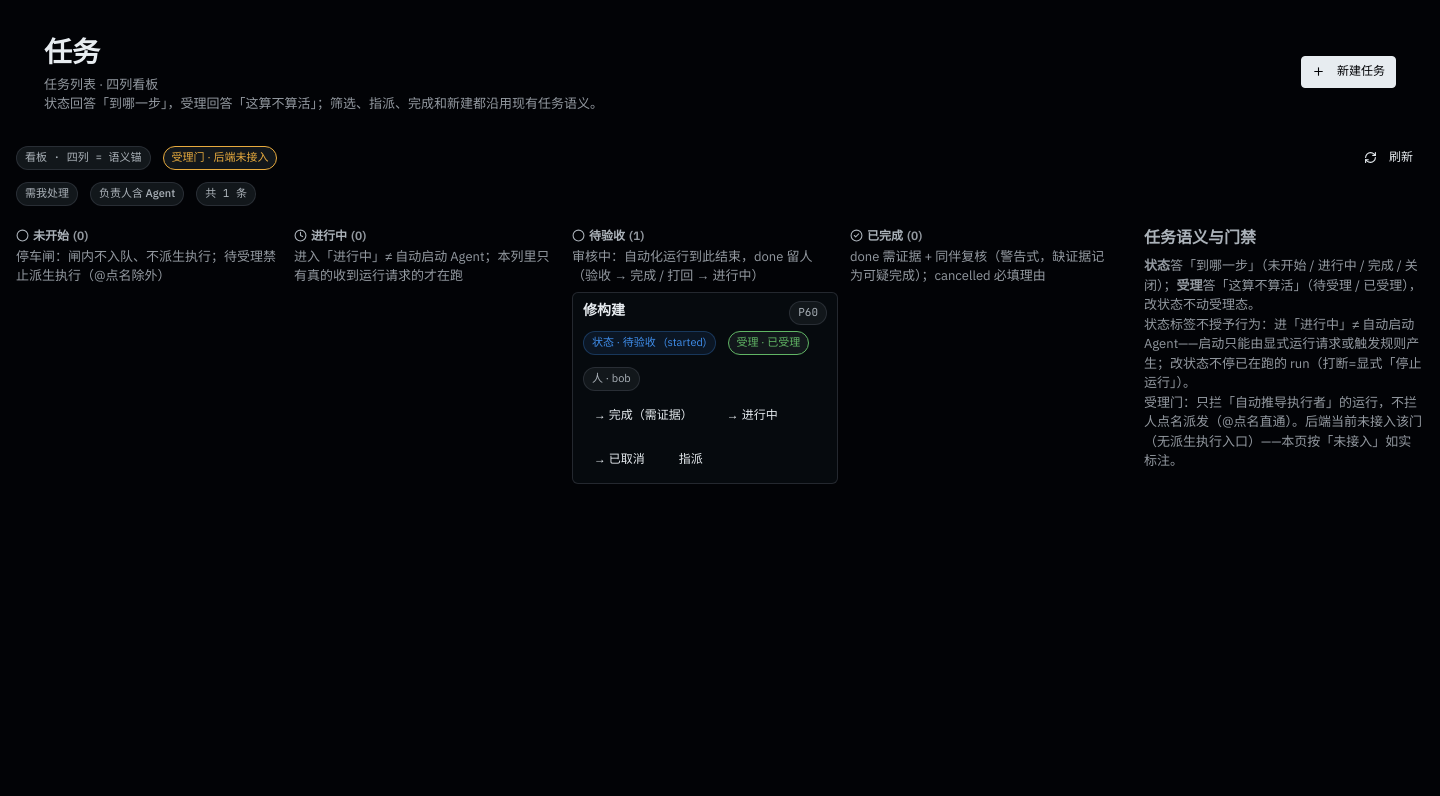
Test: 任务看板 · 标记完成（board__mark-done） › 空证据仍可完成，但显示后端 warning 文案（警告式，不是 400）
The width and height of the screenshot is (1440, 796).
Click the button "→ 完成（需证据）".
click(643, 415)  # box x1=583 y1=399 x2=704 y2=431
(page scrolled)
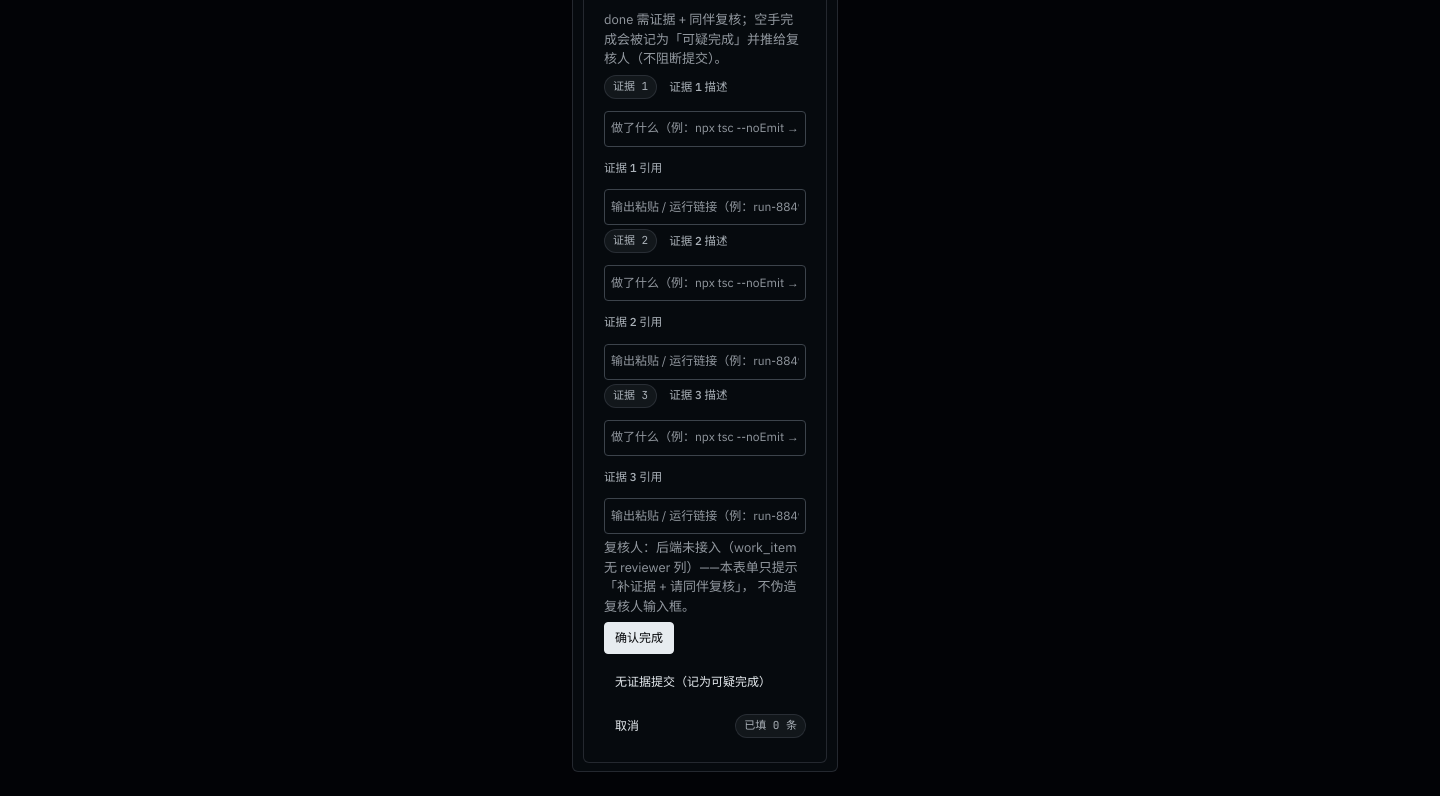
Expected: the element named "标记完成（附证据）" shows "需证据 + 同伴复核", x1=604 y1=11 x2=799 y2=67
Click the button "确认完成".
click(639, 638)  # box x1=604 y1=622 x2=674 y2=654
(page scrolled)
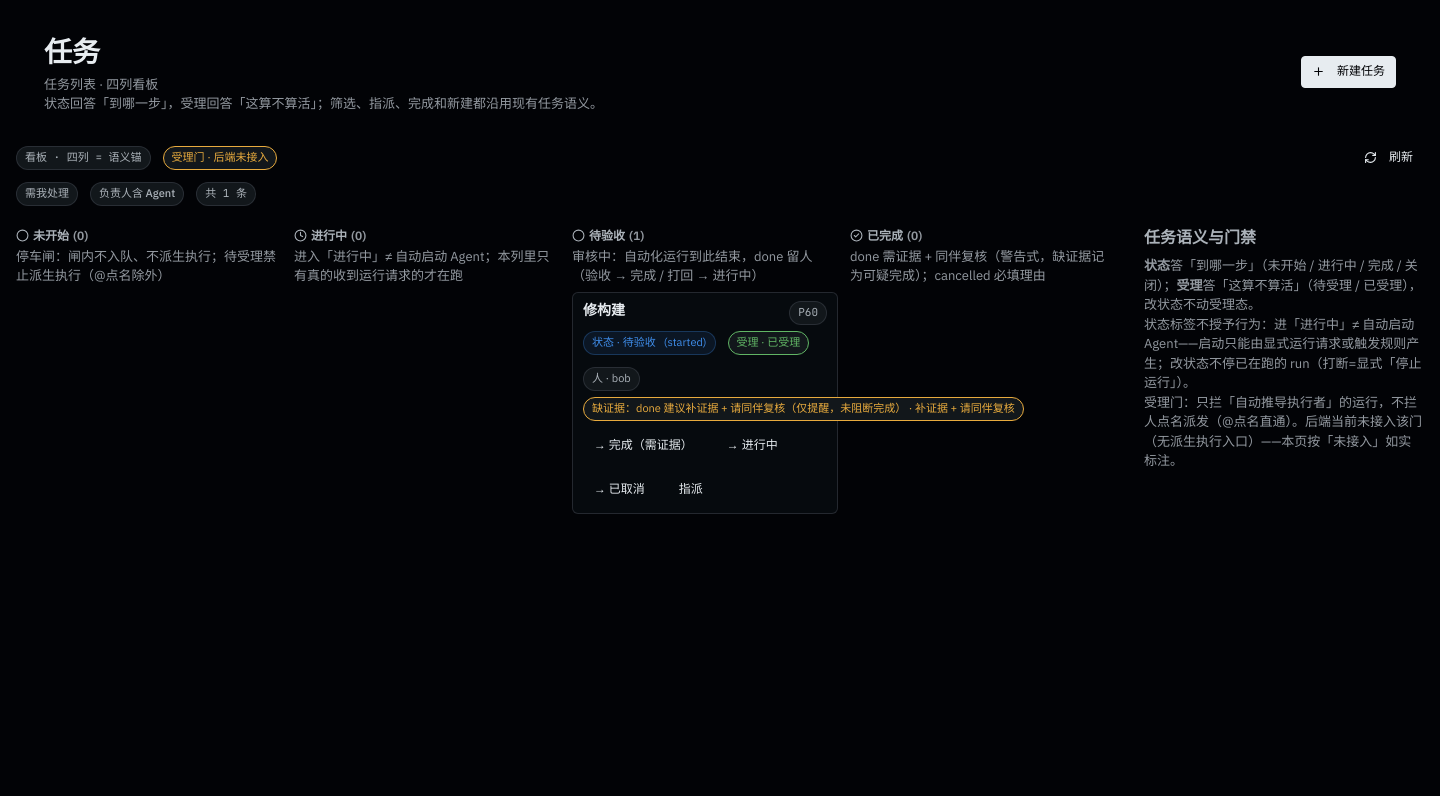
Expected: the message "缺证据：done 建议补证据 + 请同伴复核（仅提醒，未阻断完成） · 补证据 + 请同伴复核" is shown, x1=583 y1=397 x2=1024 y2=421
